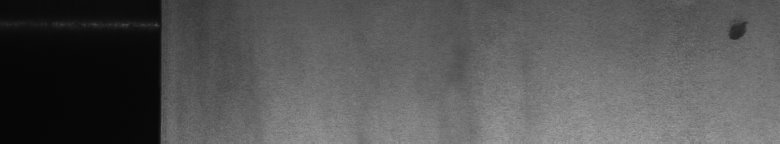fi: (724, 16, 752, 48)
